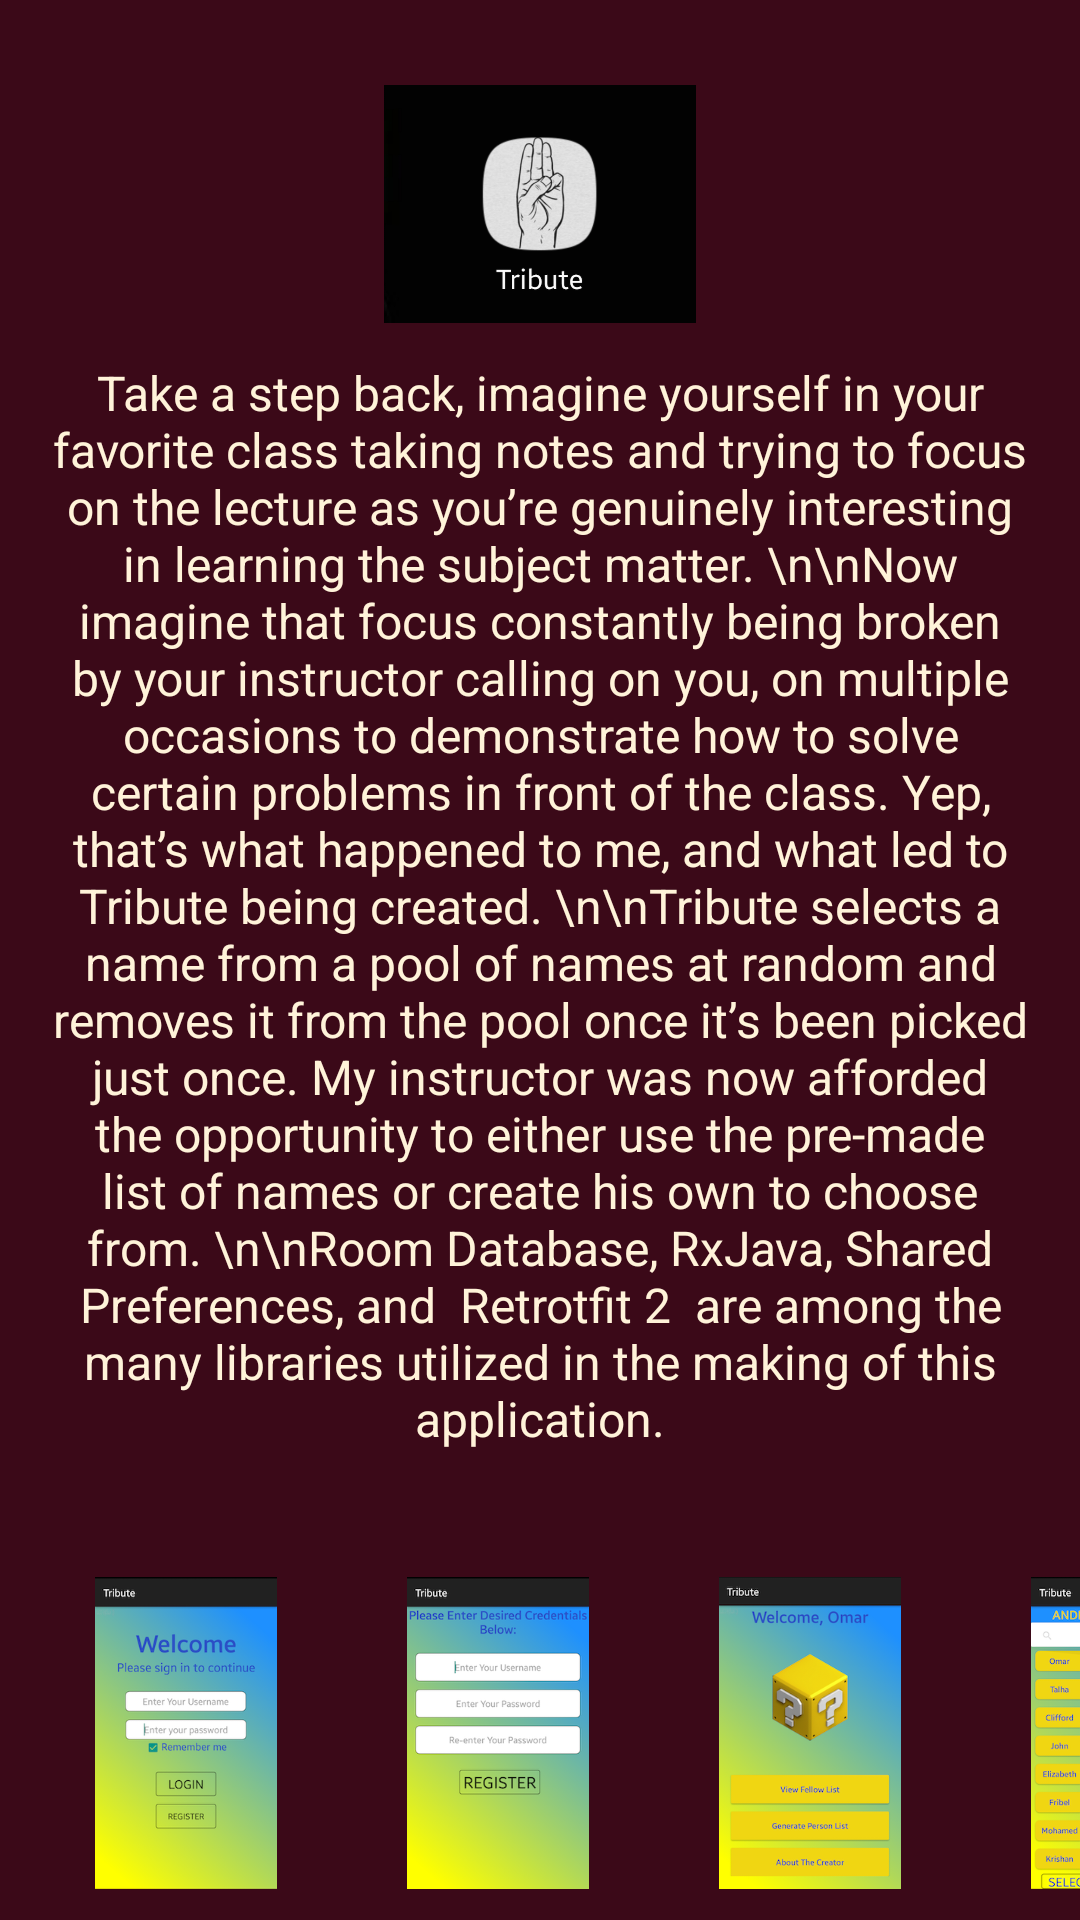

Locate icon controls on the screen. Image size 1080*1920, boxes as (x1, y1, x2, y2).
tribute main page: (719, 1577, 901, 1889)
